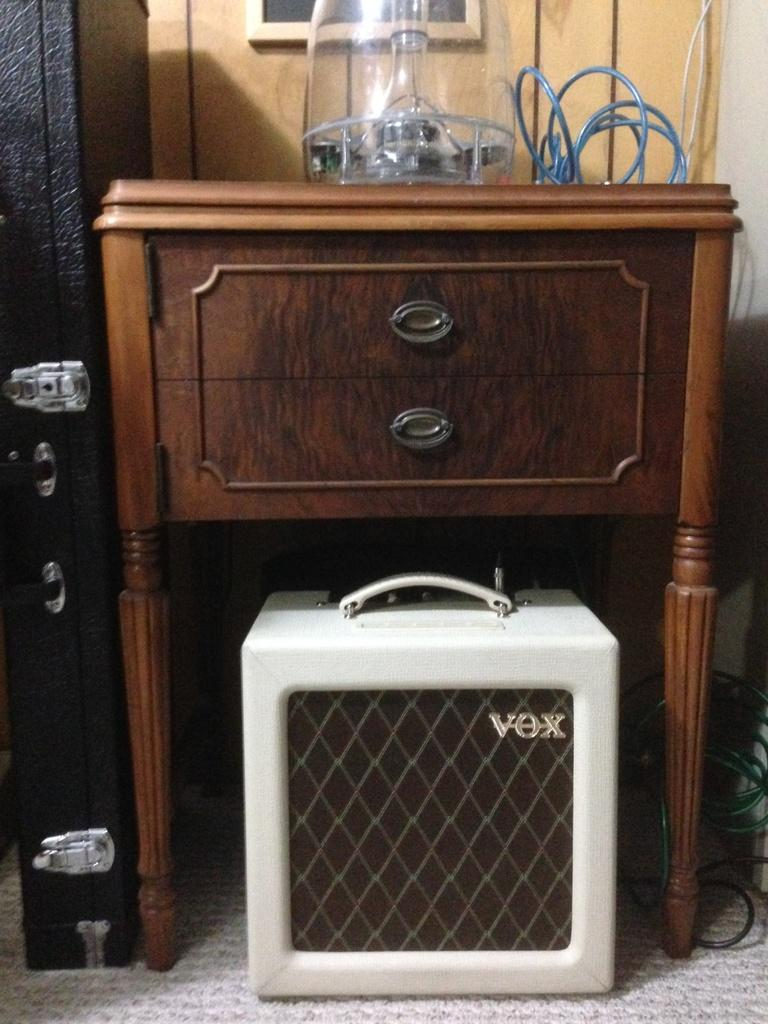cabinet_door: (162, 377, 686, 525), (151, 242, 690, 372)
handle: (386, 404, 459, 454), (385, 296, 454, 348)
